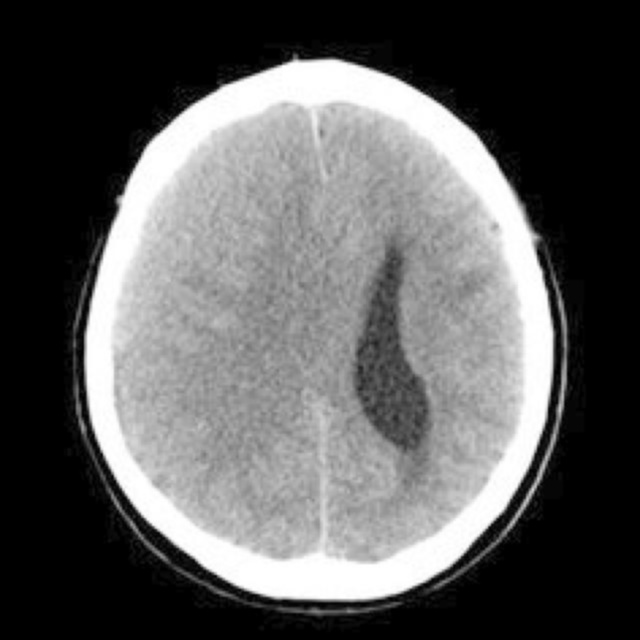glioma tumor: (157, 127, 475, 554)
